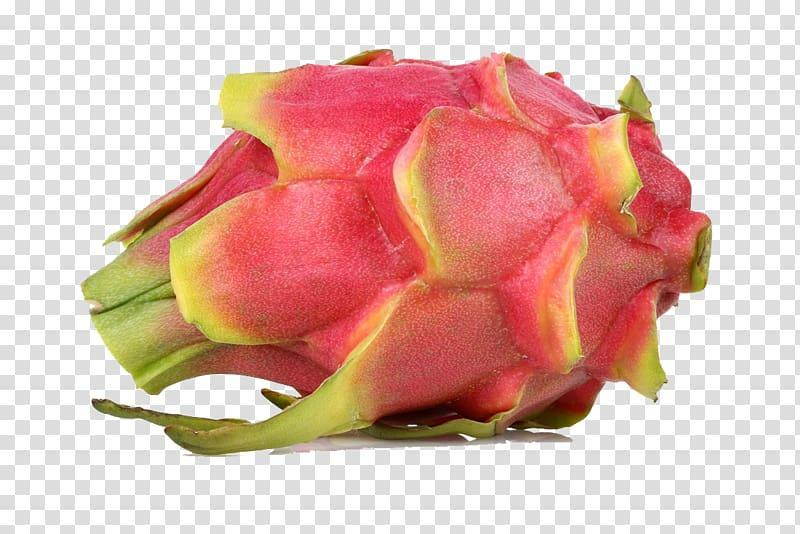dragon-fruit: (142, 55, 694, 428)
